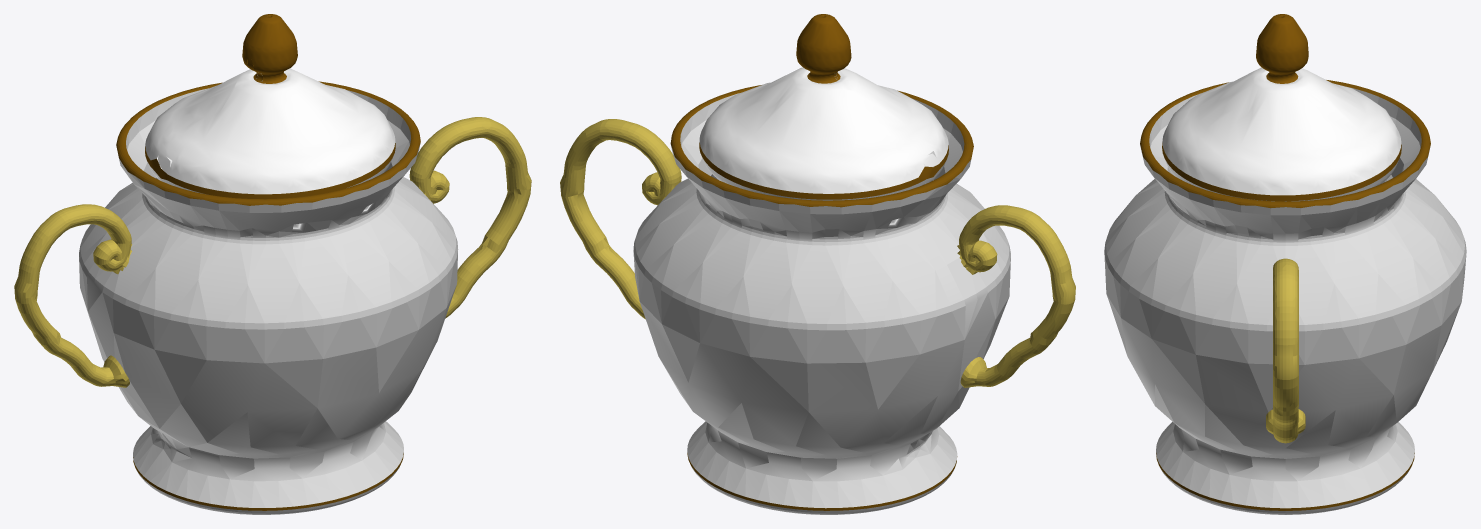
File: Sugar-basin.fbx
3 renders of one model, left to right at view 1: azimuth 30°, elevation 25°; view 2: azimuth 150°, elevation 25°; view 3: azimuth 270°, elevation 25°, orthographic.
Visible parts, largest first — view 1: cher03.001, cher03, cher03.005, cher03.002, cher03.006; view 2: cher03.001, cher03, cher03.005, cher03.002, cher03.006; view 3: cher03.001, cher03, cher03.005, cher03.002, cher03.006.
Boxes of the visible parts, x1,y1,x2,y2 form: cher03.001: (79,88,458,514); cher03: (145,68,395,194); cher03.005: (14,117,531,387); cher03.002: (116,81,420,510); cher03.006: (145,14,395,199); cher03.001: (633,93,1010,514); cher03: (699,67,948,200); cher03.005: (560,119,1075,387); cher03.002: (670,85,973,510); cher03.006: (699,14,948,199); cher03.001: (1104,86,1466,514); cher03: (1162,67,1401,201); cher03.005: (1266,258,1305,443); cher03.002: (1140,80,1430,510); cher03.006: (1162,14,1401,201).
Size of the model in its own units: 10000 by 8333 by 6151.
